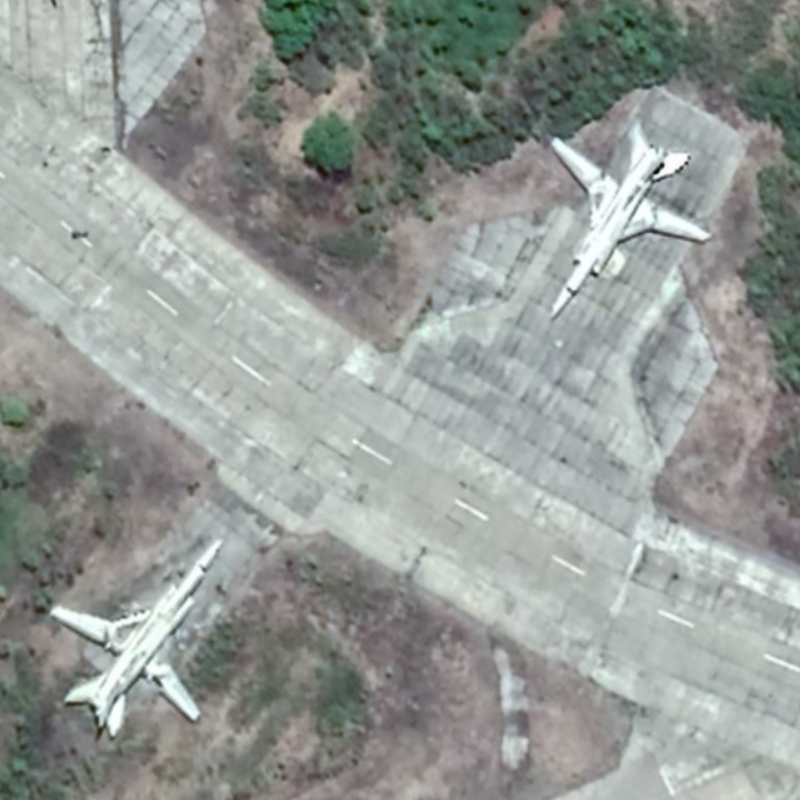A12: (44, 533, 227, 741), (539, 120, 714, 325)
